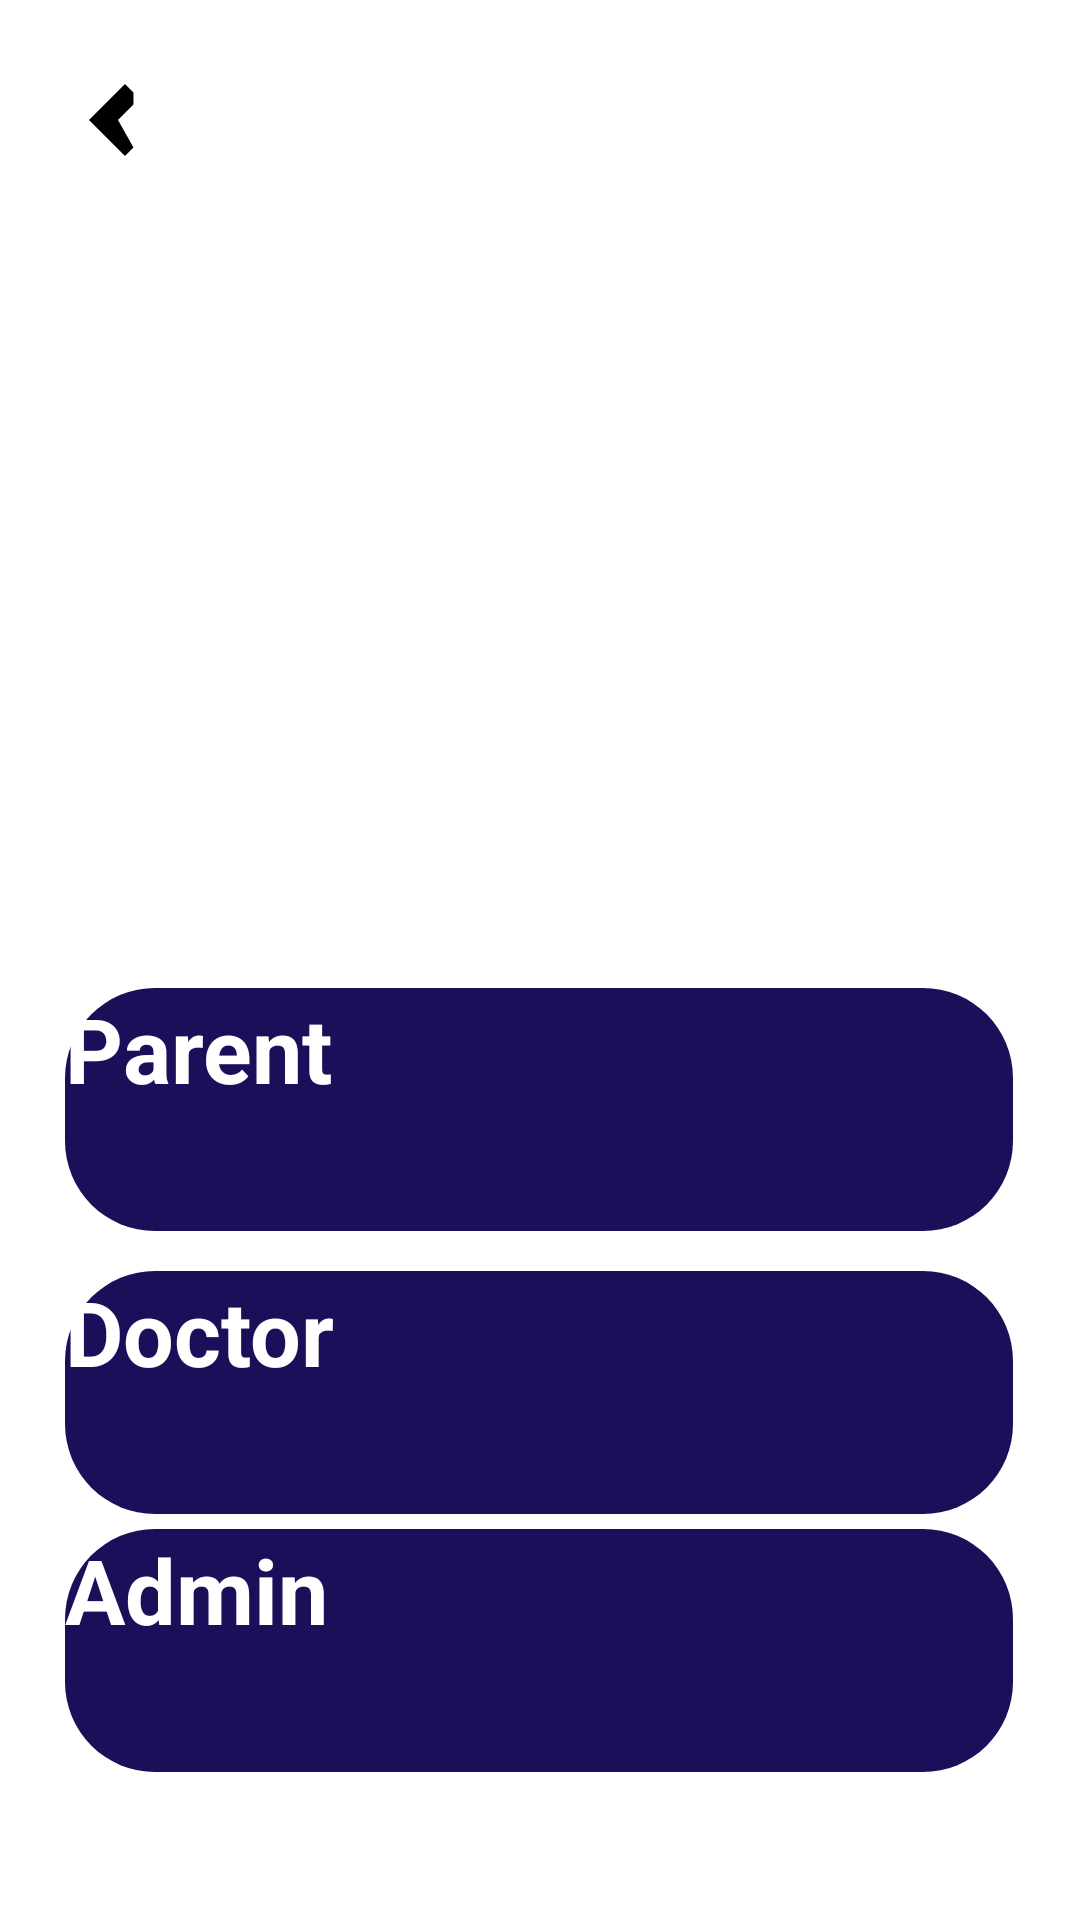

Screen size 1080 x 1920. Icon name, then its box in pixels as box=[x1, y1, x2, y2]:
back: box=[89, 84, 134, 156]
